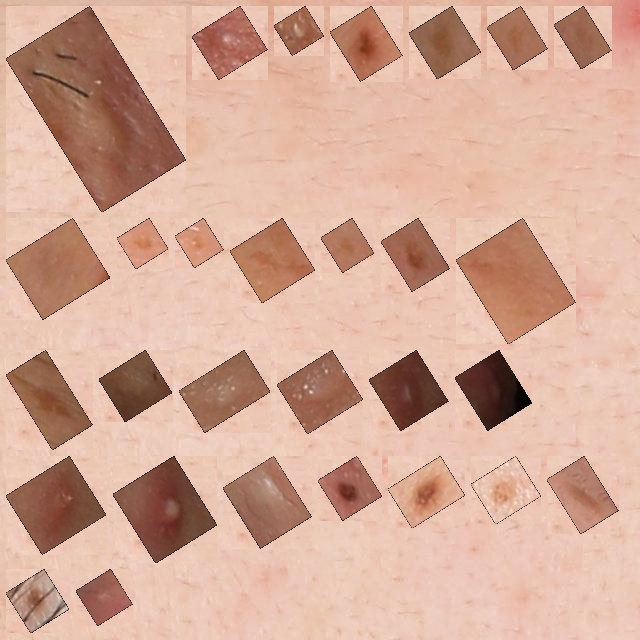hypertrophic_scar: (17, 17, 175, 201), (234, 467, 300, 537), (190, 361, 259, 421), (288, 361, 352, 423), (110, 361, 161, 411)
melasma: (467, 229, 564, 333), (17, 229, 99, 308), (17, 361, 81, 439), (241, 229, 304, 292), (558, 467, 607, 523), (420, 17, 470, 68), (392, 229, 439, 280), (498, 17, 536, 59), (565, 17, 600, 58), (332, 229, 363, 261), (128, 229, 157, 258), (186, 229, 212, 256)
nevus: (399, 467, 454, 517), (341, 17, 391, 70), (329, 467, 371, 509), (17, 580, 58, 622)
pustule: (124, 467, 206, 552), (17, 467, 95, 543), (380, 361, 437, 420), (466, 361, 521, 419), (87, 580, 121, 614), (285, 17, 313, 44)
